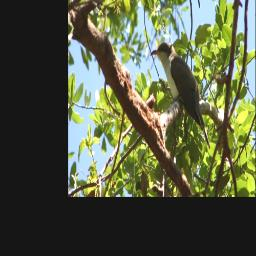Cuckoo: (149, 42, 210, 150)
